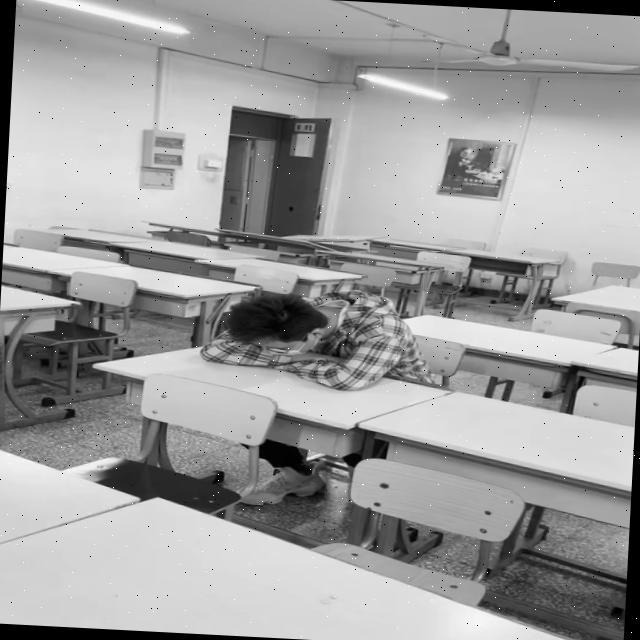sleep: (201, 290, 416, 393)
